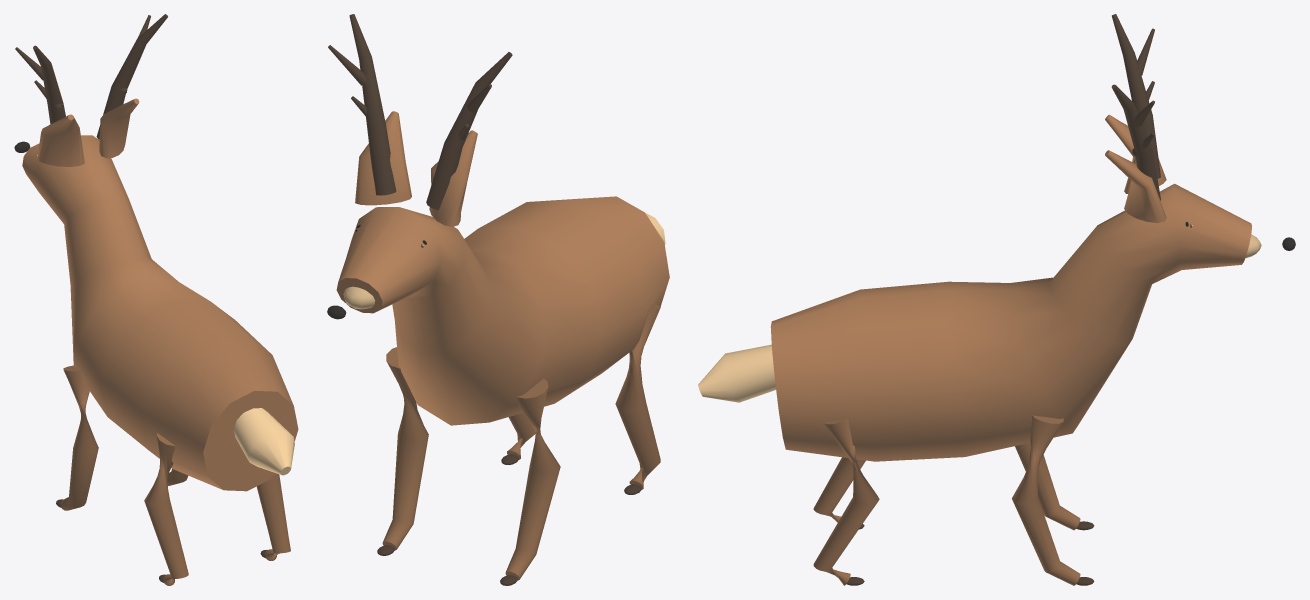
File: deer_hero.glb
The picture shows the model from 3 angles, left to right: view 1: azimuth 30°, elevation 25°; view 2: azimuth 150°, elevation 25°; view 3: azimuth 270°, elevation 25°; orthographic projection. The views are drawn at different scales.
Visible parts, largest first — view 1: DeerOrganicBody, Tail, Leg_LH, Leg_LF, Ear, Leg_RH, Ear2, AntlerBeam2, AntlerBeam; view 2: DeerOrganicBody, Leg_LF, Leg_RF, Leg_LH, AntlerBeam2, Ear2, AntlerBeam, Ear, Leg_RH, Muzzle; view 3: DeerOrganicBody, Leg_RF, Tail, Leg_RH, Ear2, AntlerBeam, Leg_LF, AntlerBeam2, Leg_LH.
Part boxes in pixels (x1,y1,x2,y2): DeerOrganicBody: [22, 135, 298, 491]; Tail: [233, 408, 294, 475]; Leg_LH: [144, 433, 188, 585]; Leg_LF: [60, 365, 98, 510]; Ear: [37, 114, 84, 166]; Leg_RH: [256, 473, 290, 560]; Ear2: [99, 98, 139, 158]; AntlerBeam2: [96, 14, 167, 139]; AntlerBeam: [33, 45, 65, 124]; DeerOrganicBody: [336, 196, 669, 425]; Leg_LF: [505, 378, 560, 580]; Leg_RF: [382, 347, 428, 550]; Leg_LH: [615, 304, 660, 489]; AntlerBeam2: [349, 14, 396, 195]; Ear2: [355, 111, 411, 205]; AntlerBeam: [426, 52, 512, 209]; Ear: [429, 130, 477, 226]; Leg_RH: [507, 412, 535, 459]; Muzzle: [343, 286, 375, 309]; DeerOrganicBody: [770, 183, 1251, 461]; Leg_RF: [1012, 415, 1080, 585]; Tail: [698, 344, 775, 402]; Leg_RH: [813, 419, 879, 585]; Ear2: [1105, 150, 1166, 222]; AntlerBeam: [1112, 14, 1160, 178]; Leg_LF: [1015, 442, 1080, 530]; AntlerBeam2: [1111, 84, 1160, 200]; Leg_LH: [813, 457, 865, 522].
Size of the model in its own units: 1.45 by 4.43 by 4.72.
